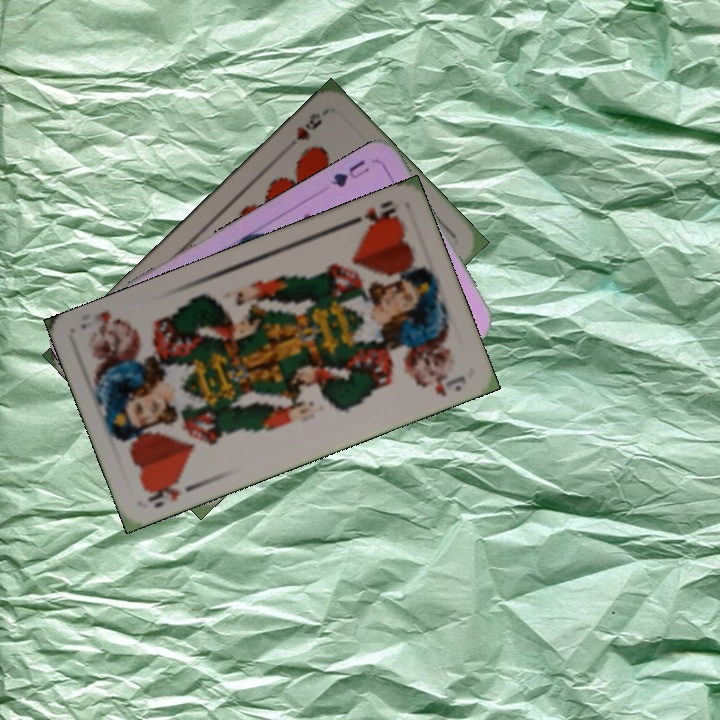GU: (327, 155, 373, 190)
H9: (292, 108, 325, 143)
HO: (139, 474, 199, 511), (343, 196, 401, 231)
